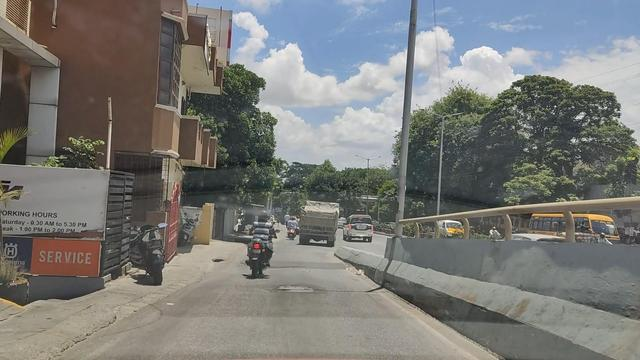HMV: (295, 198, 343, 250)
RoadDamages: (265, 276, 323, 298), (209, 251, 233, 271)
